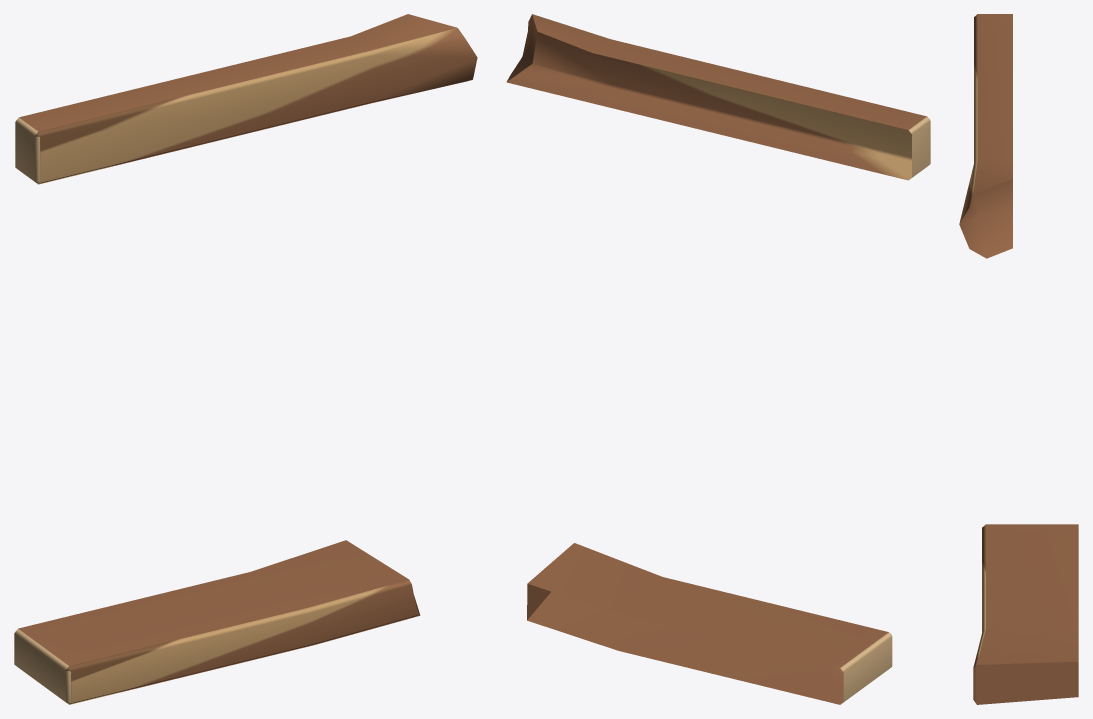
The model's file is DBK_WinWide_Trim_D_Side.fbx.
3 renders of one model, left to right at view 1: azimuth 30°, elevation 25°; view 2: azimuth 150°, elevation 25°; view 3: azimuth 270°, elevation 25°, orthographic. The views are drawn at different scales.
Visible parts, largest first — view 1: DBK_WinWide_Trim_D_Side; view 2: DBK_WinWide_Trim_D_Side; view 3: DBK_WinWide_Trim_D_Side.
Boxes of the visible parts, x1,y1,x2,y2 form: DBK_WinWide_Trim_D_Side: (14, 14, 477, 704); DBK_WinWide_Trim_D_Side: (506, 14, 930, 704); DBK_WinWide_Trim_D_Side: (959, 14, 1078, 704).
Bounding box in the file's own units: 111 × 144 × 29.07.
